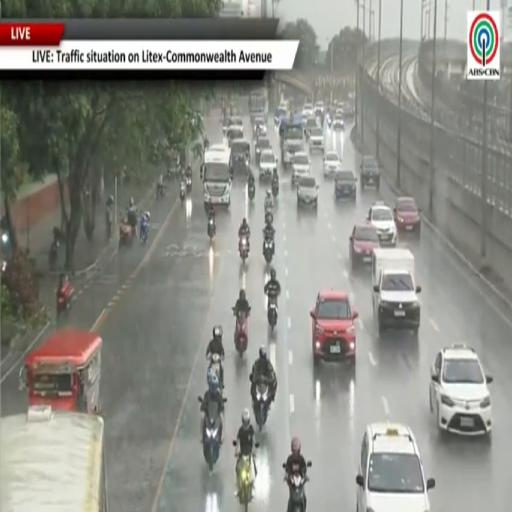bus: (0, 406, 107, 511), (201, 147, 232, 206)
car: (356, 423, 435, 511), (430, 345, 492, 435), (310, 291, 358, 364), (349, 223, 379, 269), (367, 202, 397, 247), (394, 197, 420, 236), (297, 175, 318, 209), (360, 155, 380, 190), (334, 170, 356, 201), (292, 152, 310, 184), (259, 149, 277, 180), (323, 151, 341, 177), (255, 137, 271, 165), (309, 127, 324, 152), (304, 117, 317, 139), (228, 117, 243, 132), (254, 118, 266, 135), (333, 114, 344, 130), (344, 101, 354, 118), (314, 102, 324, 116), (303, 103, 313, 116), (335, 107, 343, 116)
jeepney: (20, 329, 102, 413)
motorcycle: (203, 410, 221, 471), (237, 456, 253, 511), (253, 377, 269, 430), (286, 474, 307, 511), (233, 309, 248, 357), (57, 280, 74, 316), (207, 354, 223, 389), (119, 223, 136, 248), (266, 296, 278, 330), (238, 236, 250, 262), (49, 240, 59, 271), (264, 238, 274, 264), (140, 220, 149, 244), (106, 208, 112, 241), (207, 218, 215, 239), (265, 200, 273, 218), (156, 185, 166, 199), (179, 181, 186, 201), (248, 183, 255, 200), (272, 180, 278, 198), (186, 176, 191, 193), (265, 213, 273, 223), (327, 115, 332, 127)
truck: (372, 248, 420, 334), (279, 114, 304, 169), (249, 88, 268, 124)
